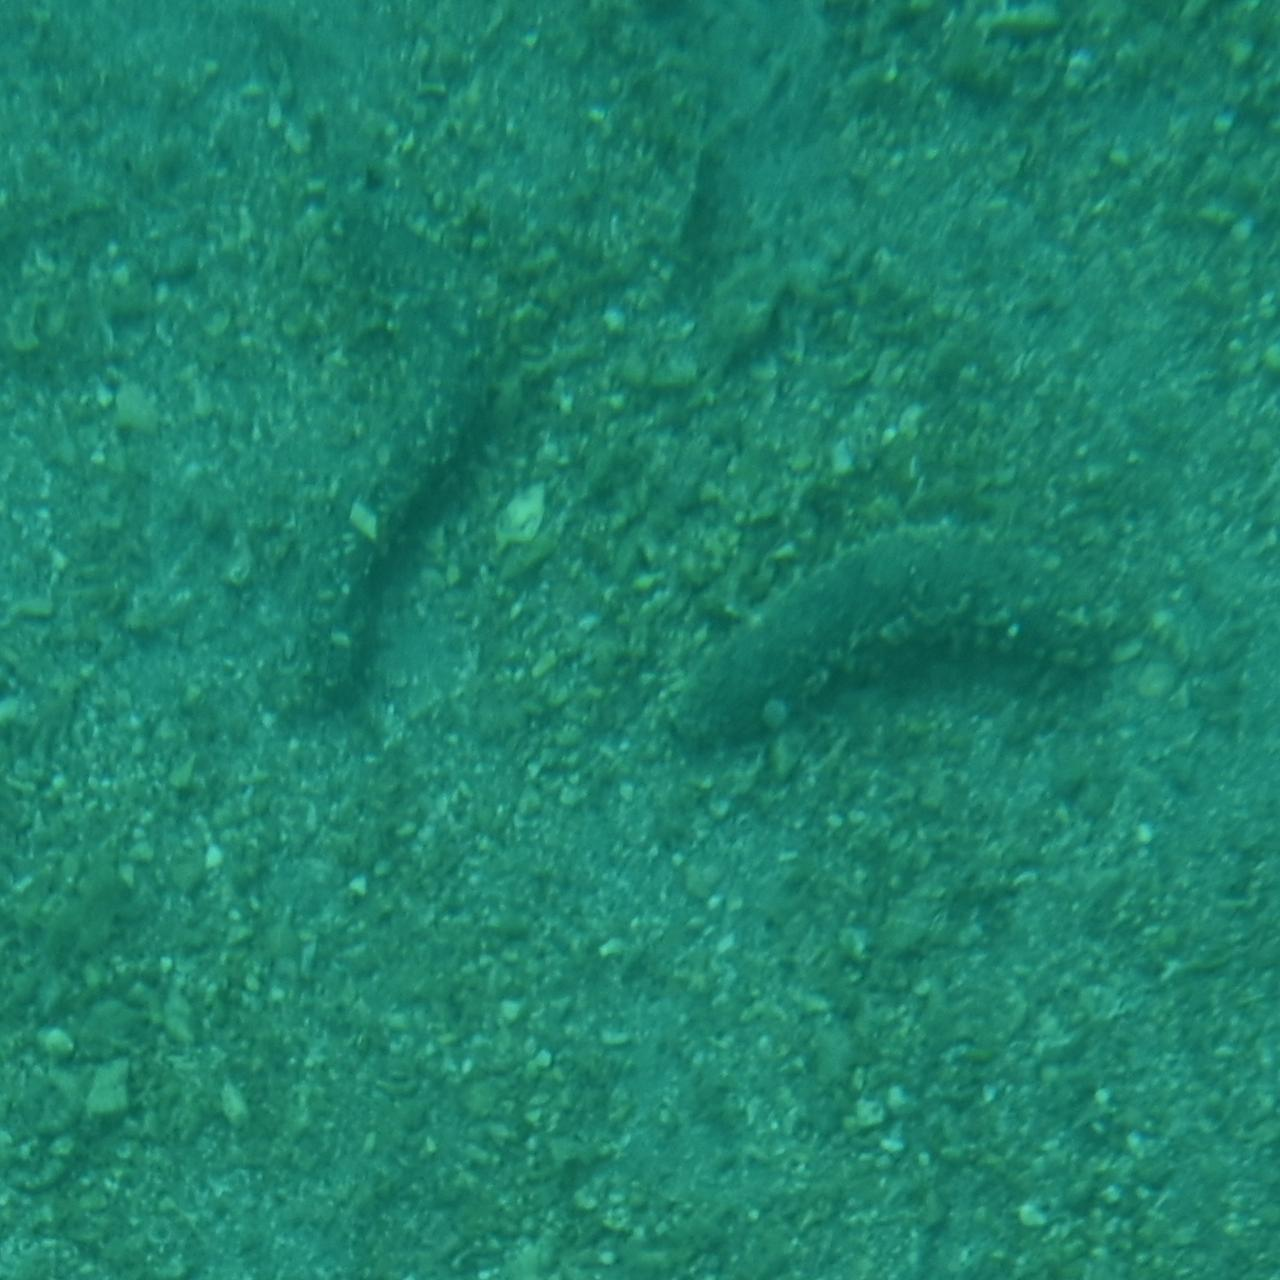Holothuria tubulosa: (663, 508, 1136, 755), (268, 233, 491, 721)
